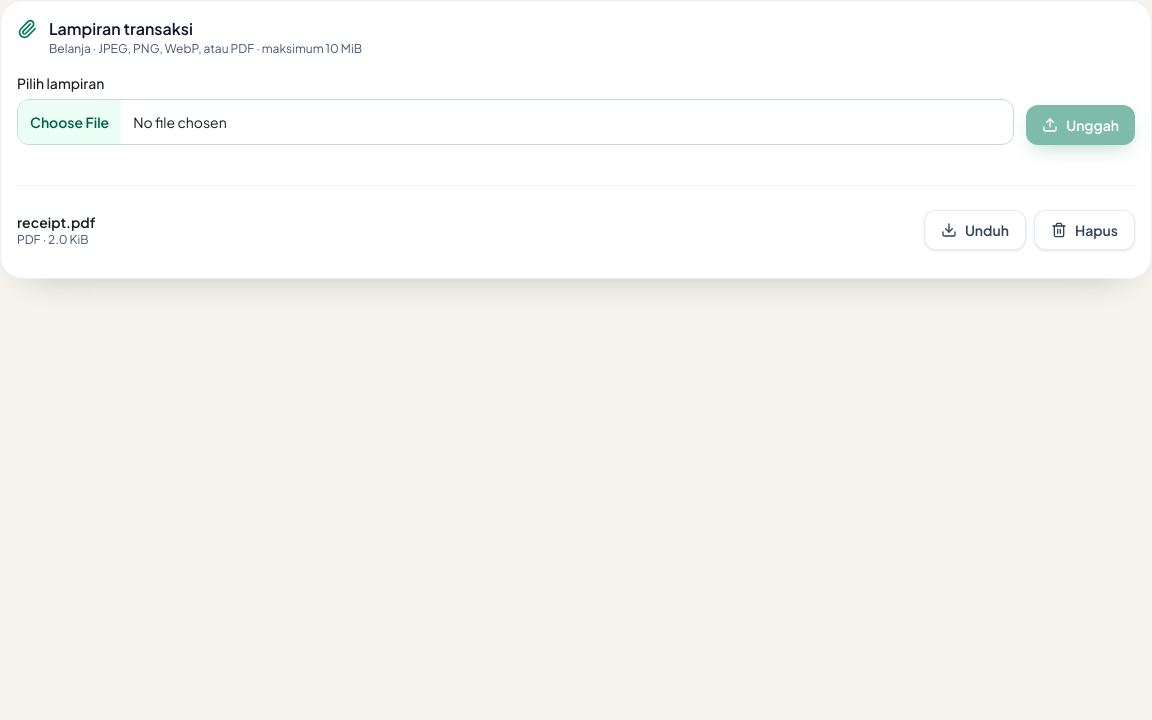
Test: AttachmentManager › lists attachment type and size and requires confirmation before deletion
The width and height of the screenshot is (1152, 720).
Expected: the text "receipt.pdf" is shown, 17,213 -> 95,231
Expected: the text "PDF · 2.0 KiB" is shown, 17,232 -> 88,247
Click the button with aria-label "Hapus receipt.pdf": (1084, 230) 1034,210 -> 1135,250
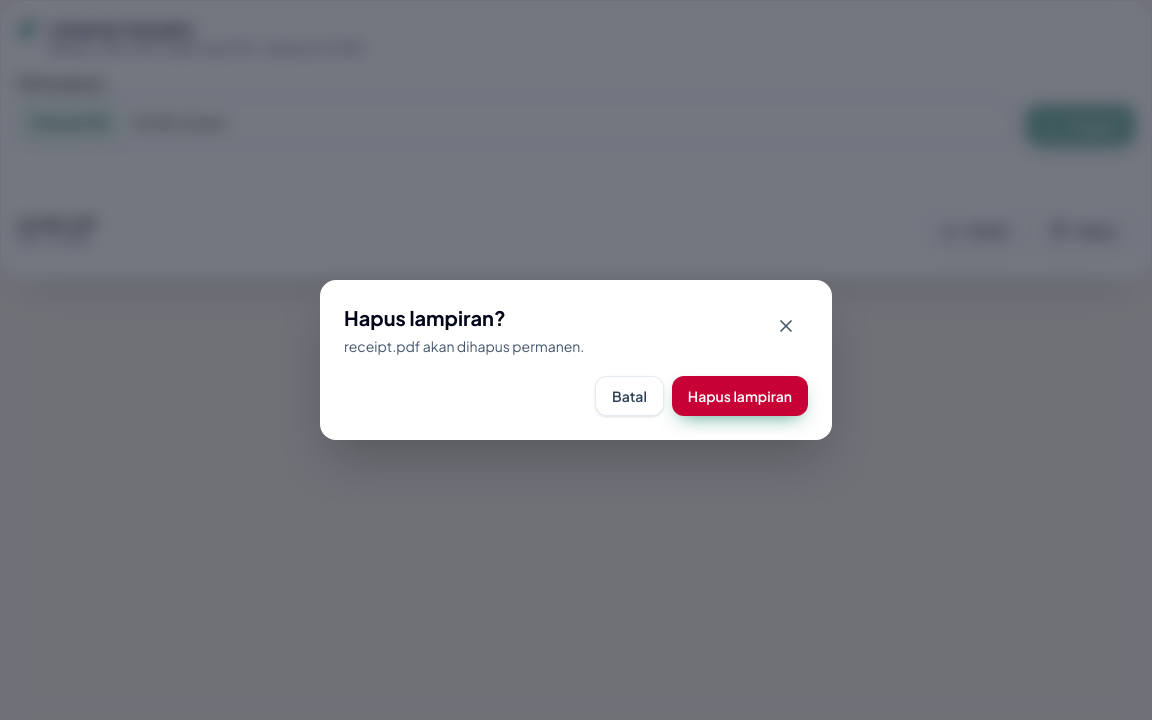
Expected: the dialog "Hapus lampiran?" is shown, 320,280 -> 832,440
